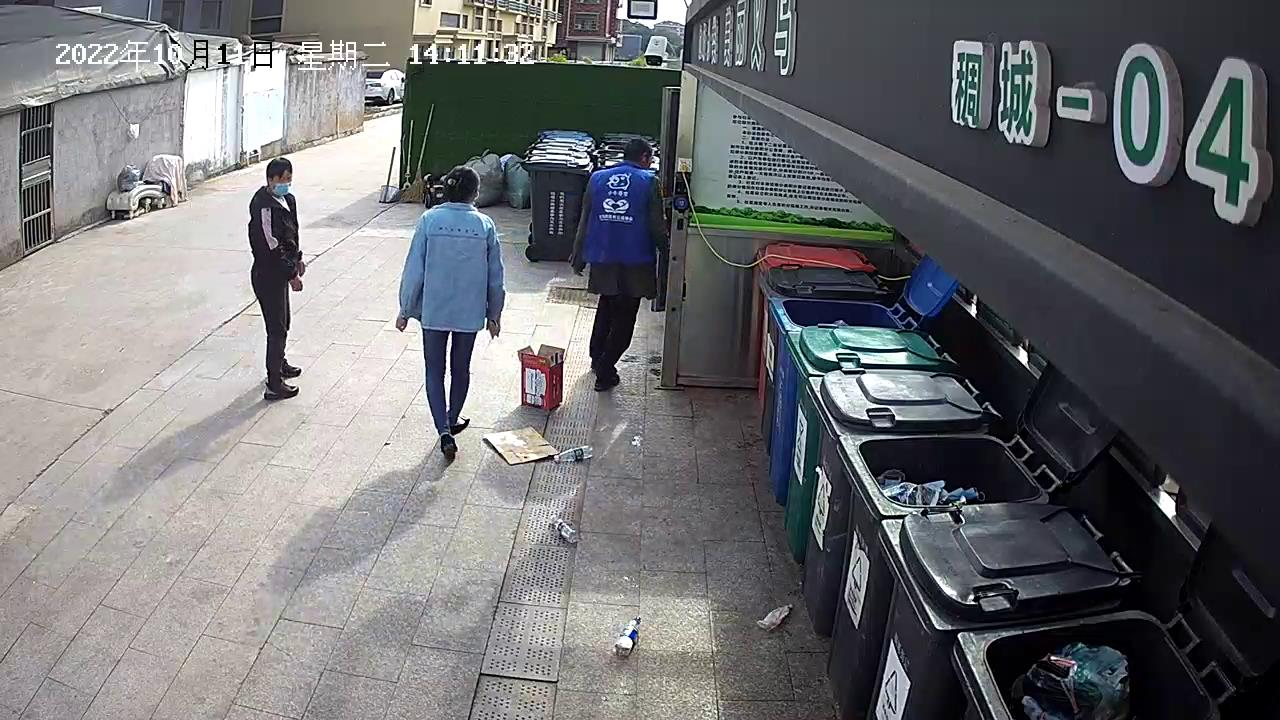person: (246, 156, 311, 402)
suliaozhipin: (611, 614, 644, 660), (752, 601, 795, 632), (547, 512, 581, 545), (552, 443, 595, 465)
worker: (392, 162, 508, 463), (565, 137, 670, 393)
zhizhipin: (516, 342, 568, 411), (481, 424, 561, 468)
